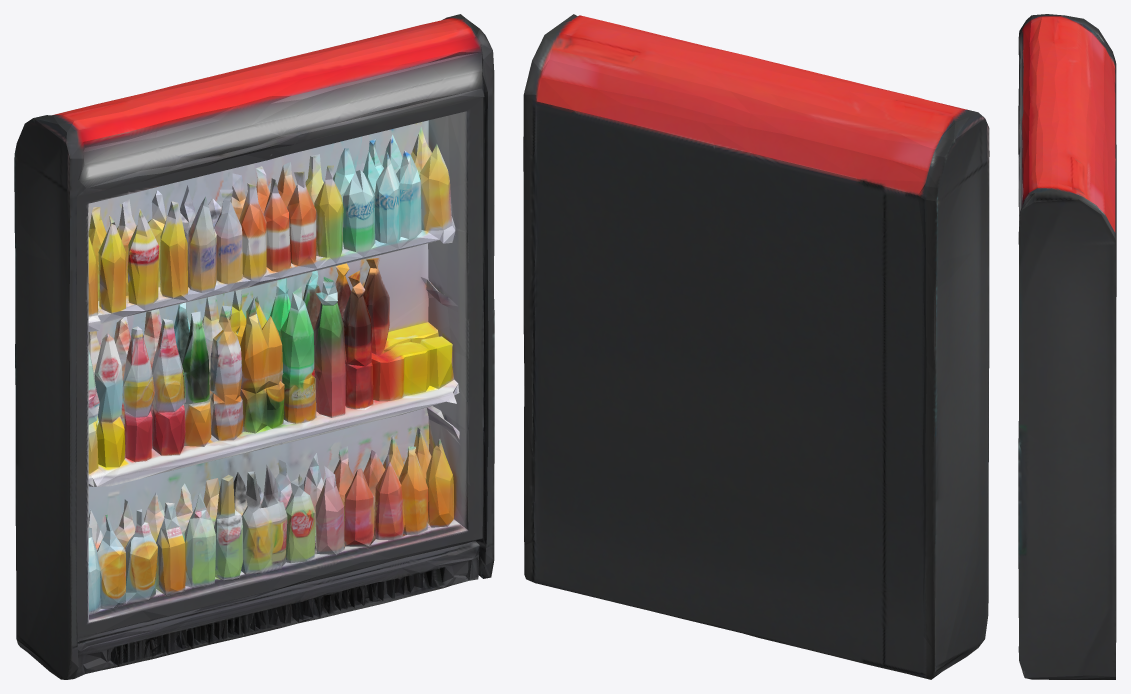
The model's file is neon_light_inside_Sto_0422134719_texture.fbx.
3 views of the same model, side by side, from view 1: azimuth 30°, elevation 25°; view 2: azimuth 150°, elevation 25°; view 3: azimuth 270°, elevation 25° (orthographic). The views are drawn at different scales.
Parts seen in each view (by area): view 1: temp; view 2: temp; view 3: temp.
Boxes of the visible parts, x1=… form: temp: x1=14, y1=14, x2=494, y2=679; temp: x1=523, y1=14, x2=989, y2=679; temp: x1=1018, y1=14, x2=1116, y2=679.
Size of the model in its own units: 161 by 200 by 36.45.
Materials: 1 (1 with a texture image).
